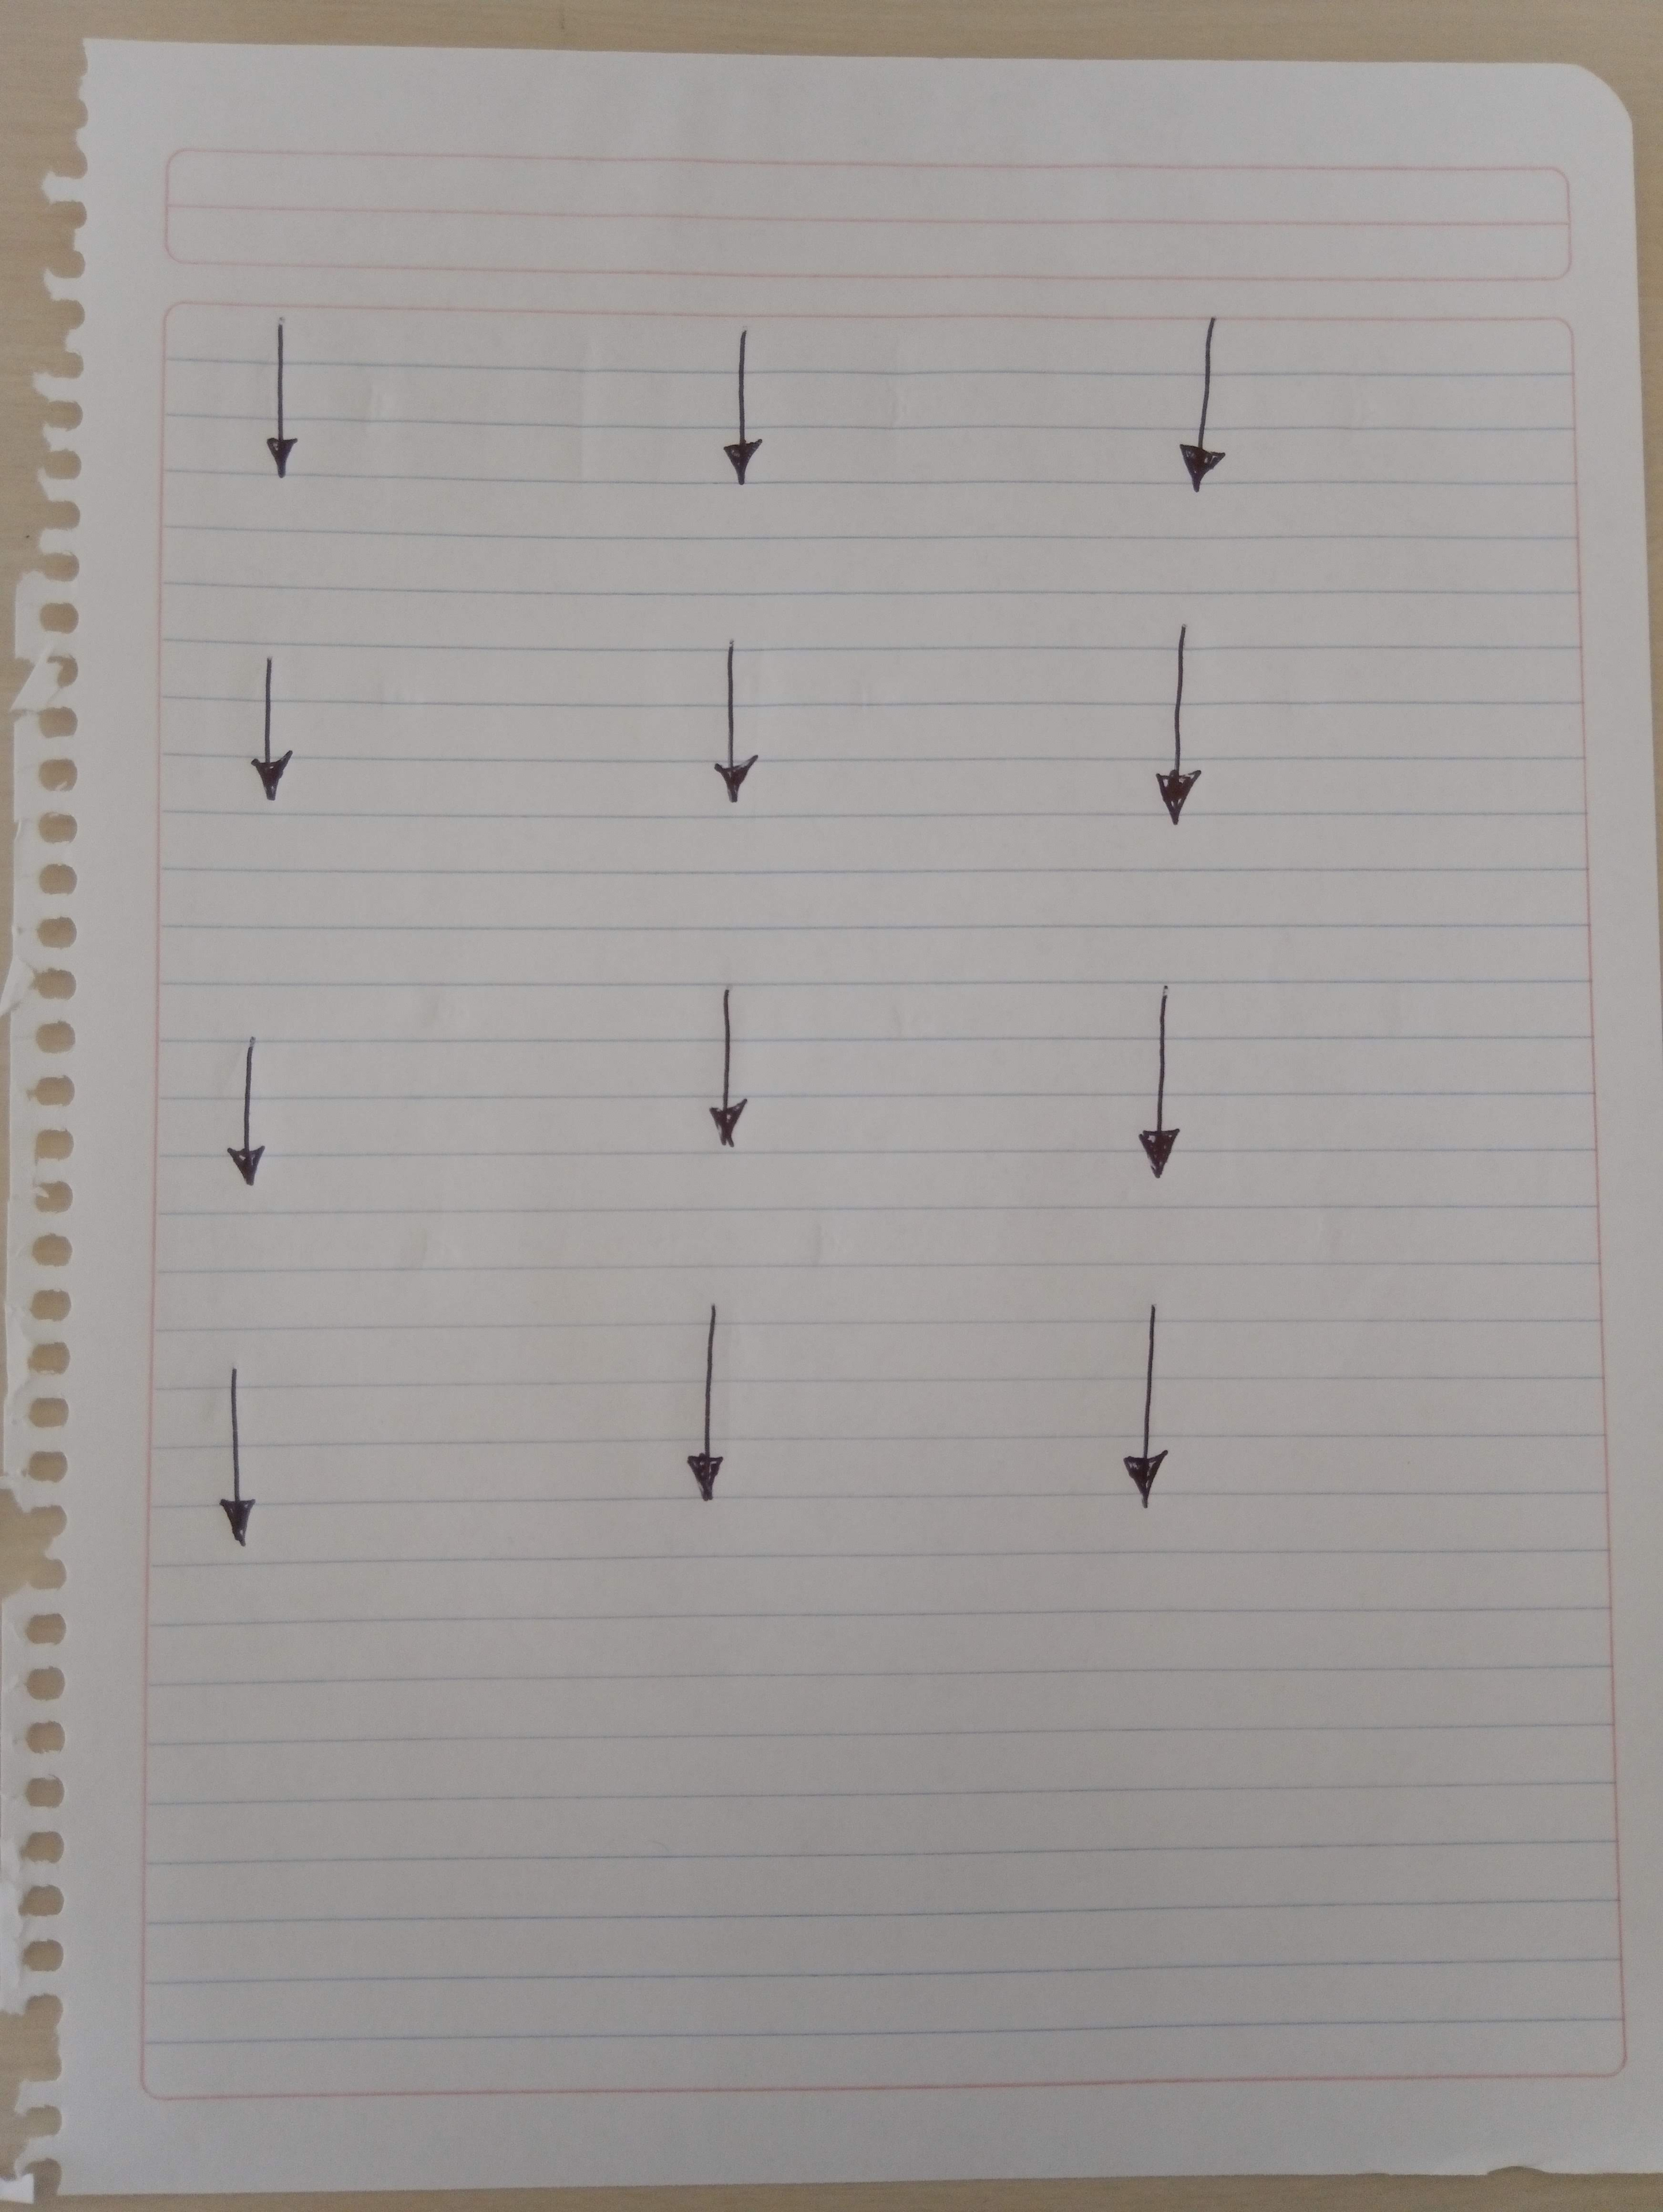arrow_line_down: (1114, 1301, 1228, 1535), (1106, 988, 1232, 1175), (655, 1315, 769, 1514), (1137, 625, 1232, 833), (1155, 321, 1263, 499), (227, 642, 344, 807), (695, 637, 795, 815), (204, 1362, 288, 1570), (196, 1037, 304, 1196), (707, 321, 790, 494), (257, 318, 330, 499), (690, 1006, 777, 1158)
